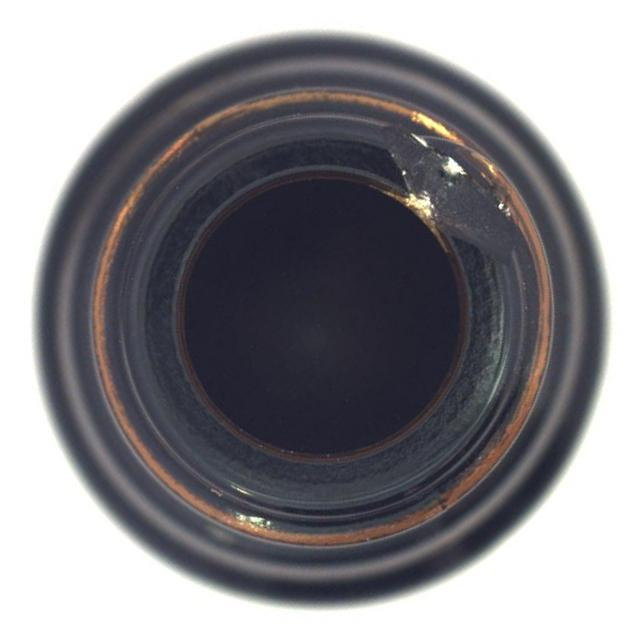bad-broken_small: (29, 28, 612, 608)
